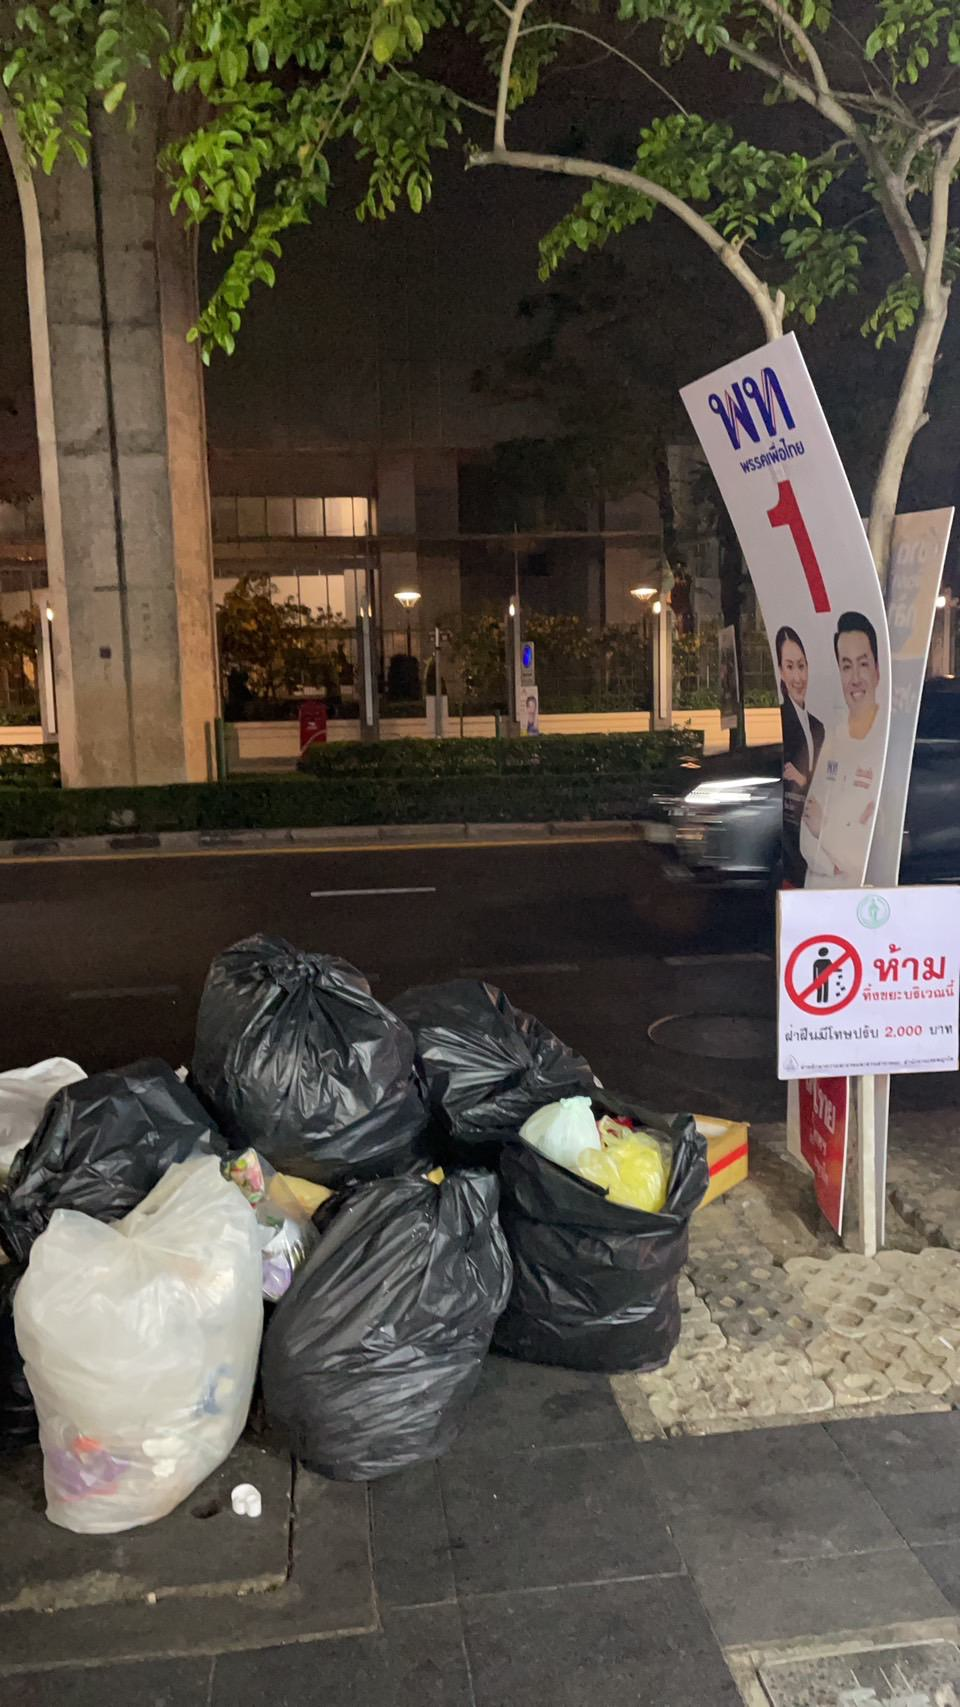Banner: (680, 351, 865, 1245)
